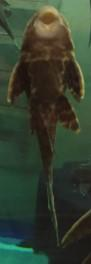Janitor Fish: (8, 7, 86, 251)
